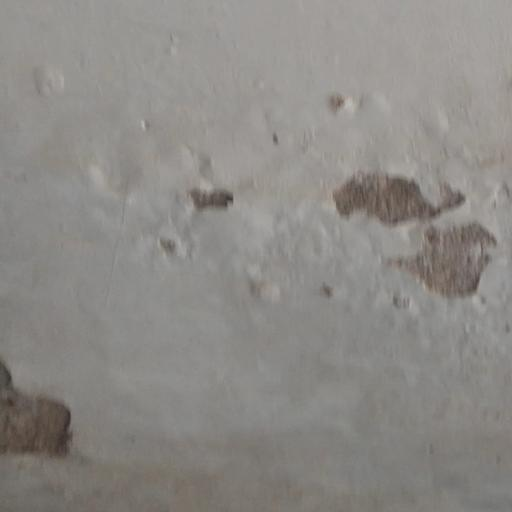peeling: (138, 87, 512, 331), (0, 351, 103, 468)
